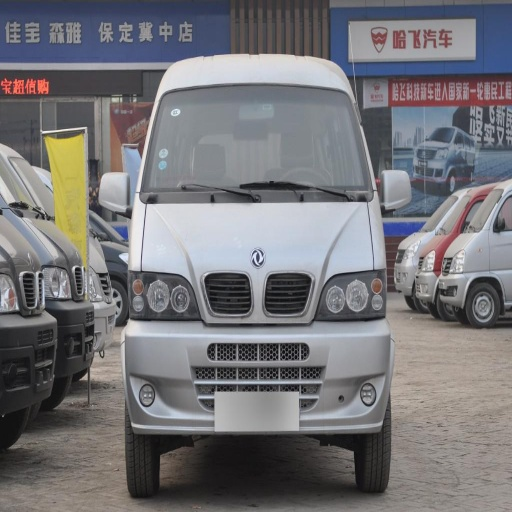front_bumper: (127, 262, 384, 435), (2, 317, 74, 410)
hood: (150, 203, 373, 279)
left_mirror: (381, 168, 412, 210)
trunk: (198, 247, 263, 288)
